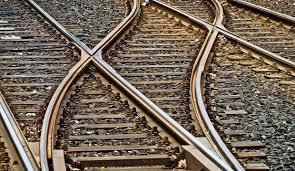track: (0, 0, 236, 171), (44, 0, 245, 171), (153, 0, 295, 68)
